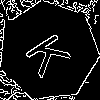K: (23, 26, 80, 79)
